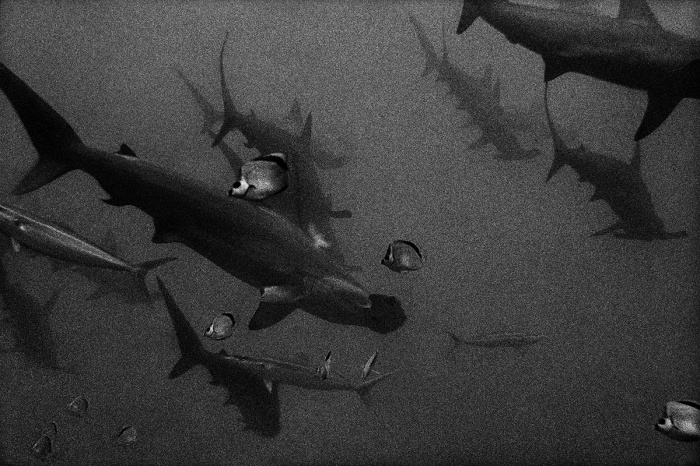shark: (1, 41, 402, 344), (197, 26, 361, 275), (464, 1, 700, 137), (134, 272, 294, 435), (536, 86, 685, 253)
